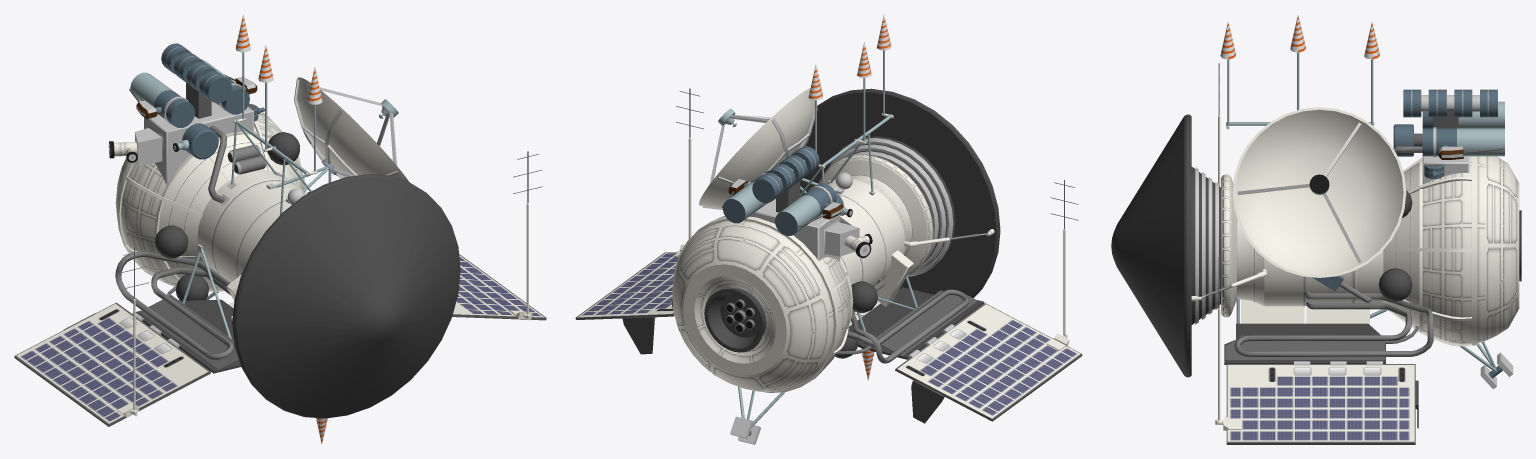
Rendered from Mars3-source.glb.
The picture shows the model from 3 angles, left to right: view 1: azimuth 30°, elevation 25°; view 2: azimuth 150°, elevation 25°; view 3: azimuth 270°, elevation 25°; orthographic projection. The views are drawn at different scales.
Parts seen in each view (by area): view 1: Mars3; view 2: Mars3; view 3: Mars3.
Part boxes in pixels (x1,y1,x2,y2): Mars3: (14, 14, 546, 444); Mars3: (575, 14, 1082, 444); Mars3: (1111, 14, 1521, 444).
Size of the model in its own units: 1.61 by 1.35 by 1.3.
1 material, 1 textured.
